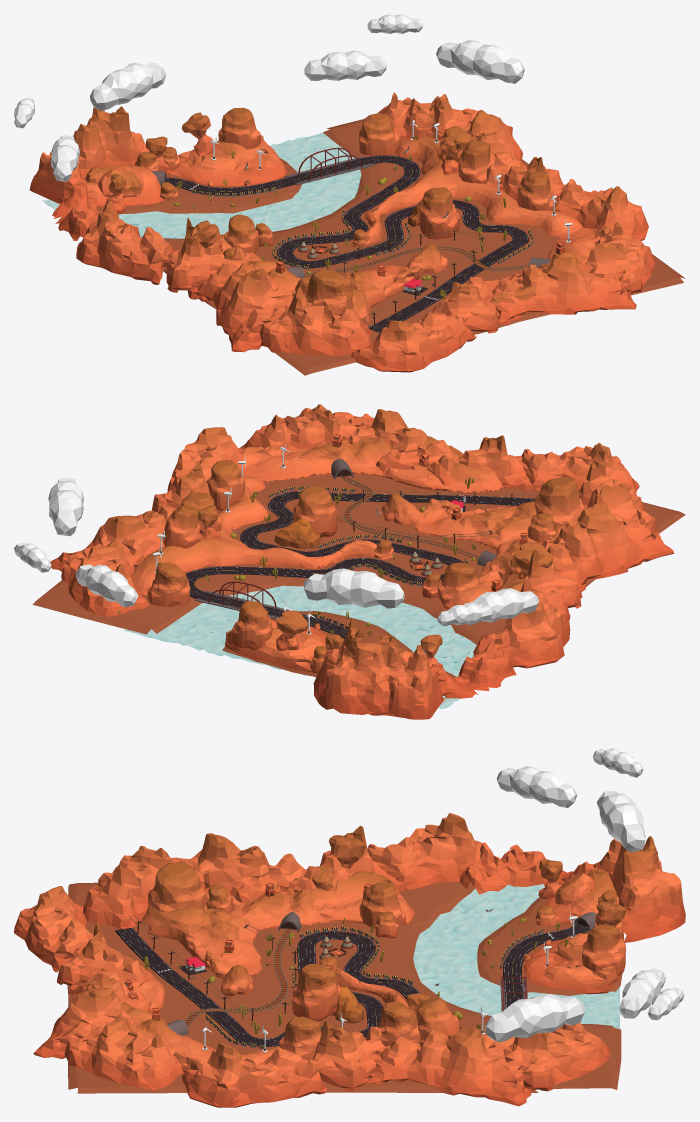
File: track-draco.glb
3 views of the same model, one above another, from view 1: azimuth 30°, elevation 25°; view 2: azimuth 150°, elevation 25°; view 3: azimuth 270°, elevation 25° (orthographic). The views are drawn at different scales.
Parts seen in each view (by area): view 1: Cliff2.019, Plane.006, Circle.133, Plane.089, Mball.003, Mball.006, Mball.001, Mball.004, Mball.002; view 2: Cliff2.019, Plane.006, Circle.133, Plane.089, Mball.006, Mball.001, Mball.003, Mball.004, Mball.005, Mball.002; view 3: Cliff2.019, Plane.006, Circle.133, Plane.089, Mball.003, Mball.004, Mball.006, Mball.001, Mball.005, Mball.002.
Part boxes in pixels (left/top/right/bottom): Cliff2.019: left=29, top=92, right=654, bottom=372; Plane.006: left=97, top=118, right=685, bottom=375; Circle.133: left=150, top=134, right=565, bottom=333; Plane.089: left=43, top=133, right=361, bottom=238; Mball.003: left=436, top=40, right=524, bottom=83; Mball.006: left=90, top=62, right=166, bottom=111; Mball.001: left=304, top=50, right=386, bottom=80; Mball.004: left=51, top=135, right=79, bottom=181; Mball.002: left=367, top=14, right=422, bottom=33; Cliff2.019: left=50, top=404, right=673, bottom=719; Plane.006: left=32, top=417, right=685, bottom=677; Circle.133: left=118, top=434, right=536, bottom=639; Plane.089: left=123, top=585, right=476, bottom=708; Mball.006: left=303, top=568, right=404, bottom=608; Mball.001: left=75, top=564, right=138, bottom=607; Mball.003: left=48, top=477, right=83, bottom=536; Mball.004: left=464, top=588, right=539, bottom=625; Mball.005: left=437, top=603, right=492, bottom=626; Mball.002: left=14, top=542, right=51, bottom=572; Cliff2.019: left=14, top=813, right=685, bottom=1107; Plane.006: left=67, top=882, right=624, bottom=1093; Circle.133: left=115, top=883, right=596, bottom=1049; Plane.089: left=413, top=884, right=619, bottom=1028; Mball.003: left=485, top=994, right=585, bottom=1042; Mball.004: left=496, top=766, right=577, bottom=807; Mball.006: left=596, top=791, right=645, bottom=852; Mball.001: left=619, top=968, right=666, bottom=1018; Mball.005: left=593, top=748, right=643, bottom=777; Mball.002: left=647, top=987, right=684, bottom=1020.
Bounding box in the file's own units: 22.04 × 5.11 × 24.61.
11 materials, 2 textured.
